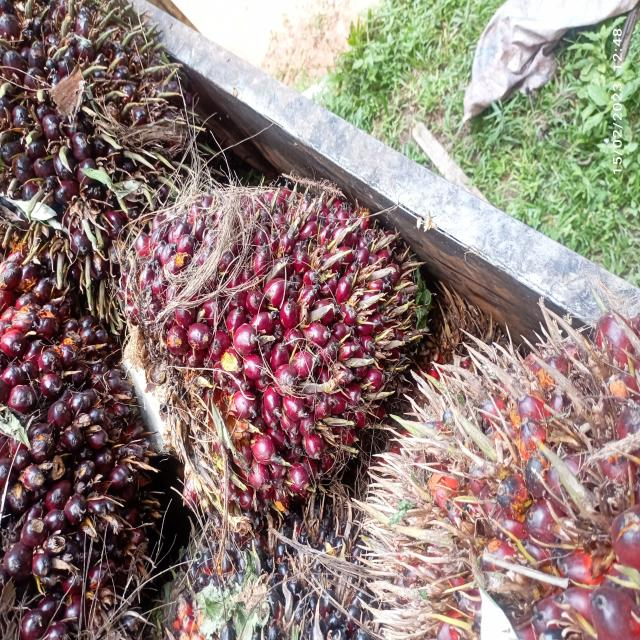fraksi 1: (90, 107, 451, 543)
